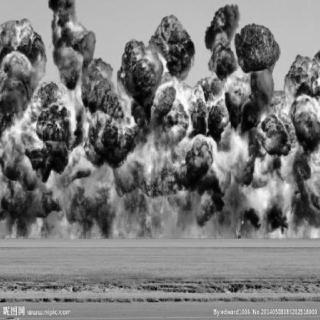Fire: (0, 0, 319, 242)
